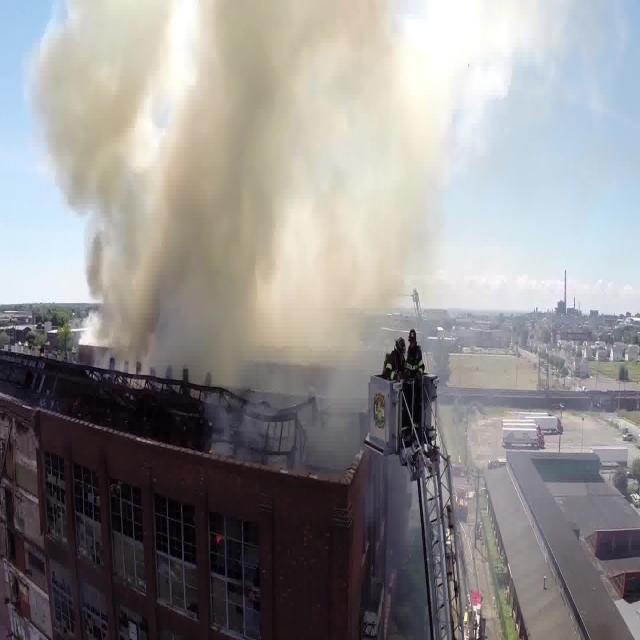Smoke: (29, 3, 576, 391)
